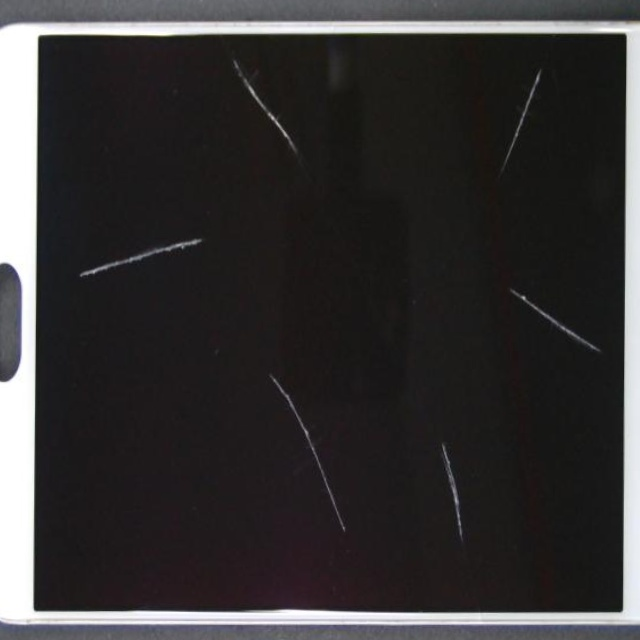scratch: (188, 112, 640, 640), (78, 62, 456, 640), (343, 175, 640, 482), (270, 0, 640, 164), (148, 67, 276, 358), (184, 102, 455, 182)
